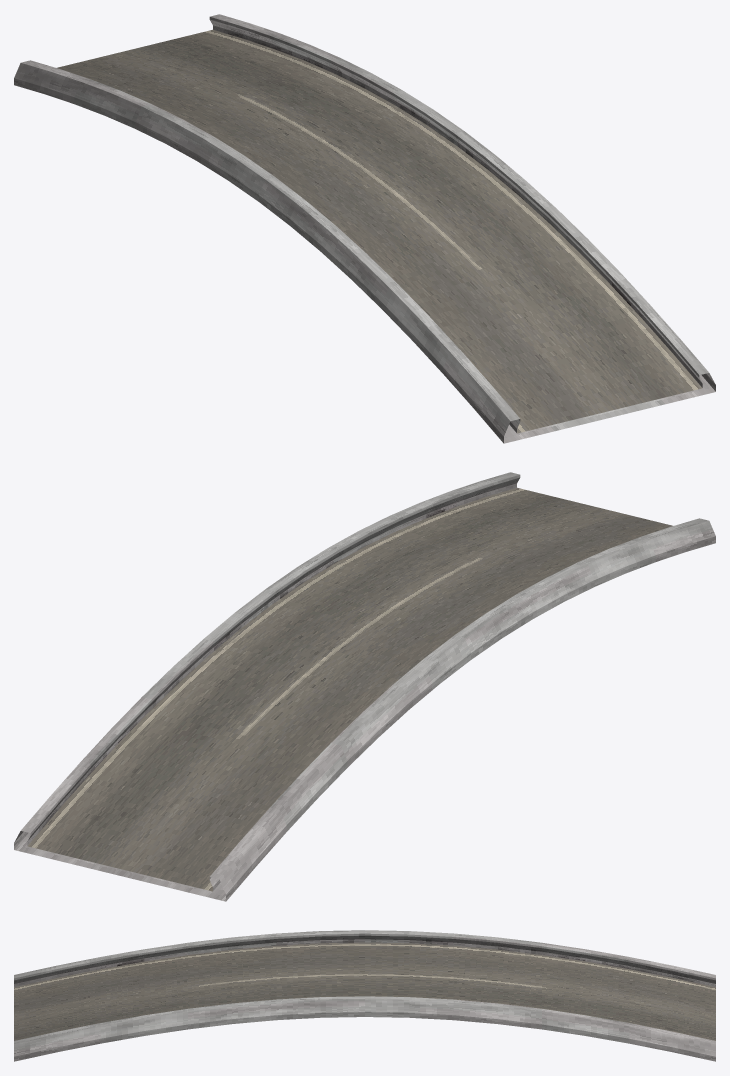
File: straight4.glb
3 views of the same model, one above another, from view 1: azimuth 30°, elevation 25°; view 2: azimuth 150°, elevation 25°; view 3: azimuth 270°, elevation 25° (orthographic). The views are drawn at different scales.
Visible parts, largest first — view 1: road-Straight-BiSlopeUp-BiSlopeDown-Even-Center-Size4; view 2: road-Straight-BiSlopeUp-BiSlopeDown-Even-Center-Size4; view 3: road-Straight-BiSlopeUp-BiSlopeDown-Even-Center-Size4.
Boxes of the visible parts, x1=… form: road-Straight-BiSlopeUp-BiSlopeDown-Even-Center-Size4: x1=14, y1=14, x2=715, y2=443; road-Straight-BiSlopeUp-BiSlopeDown-Even-Center-Size4: x1=14, y1=472, x2=715, y2=901; road-Straight-BiSlopeUp-BiSlopeDown-Even-Center-Size4: x1=14, y1=930, x2=715, y2=1061.
Size of the model in its own units: 1 by 0.375 by 4.
Materials: 2 (2 with a texture image).
